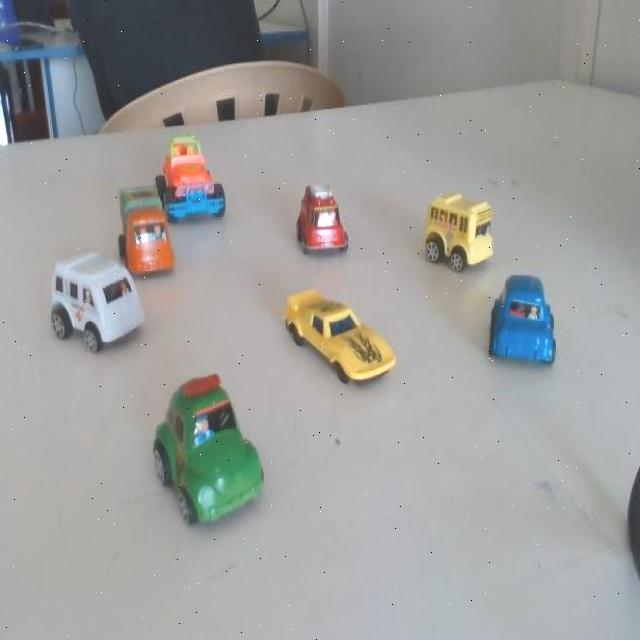car: (142, 374, 269, 526), (279, 284, 397, 392), (47, 241, 146, 364), (485, 273, 561, 372), (160, 127, 237, 224), (414, 191, 492, 281), (114, 175, 176, 284), (285, 177, 348, 269)
